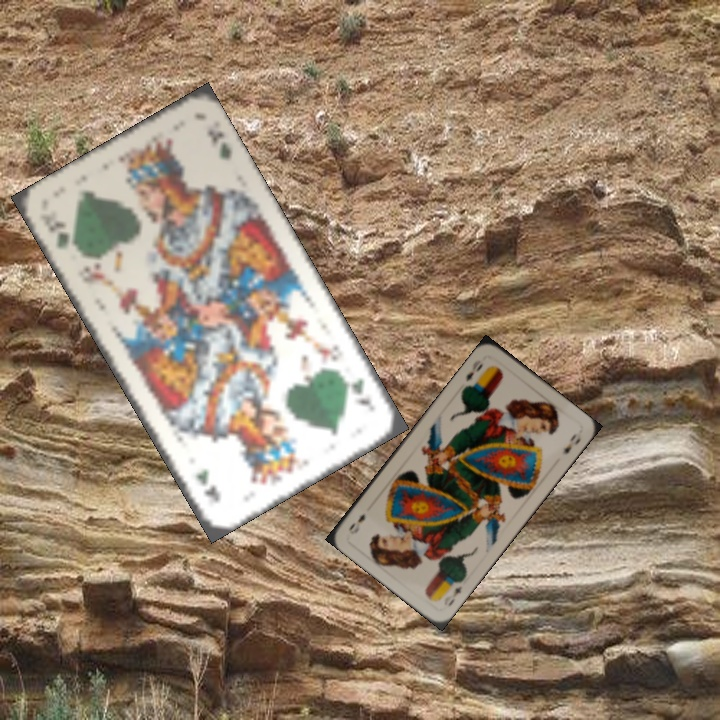EO: (444, 576, 466, 609), (461, 359, 486, 385)
GK: (337, 369, 377, 416), (51, 226, 81, 255)
